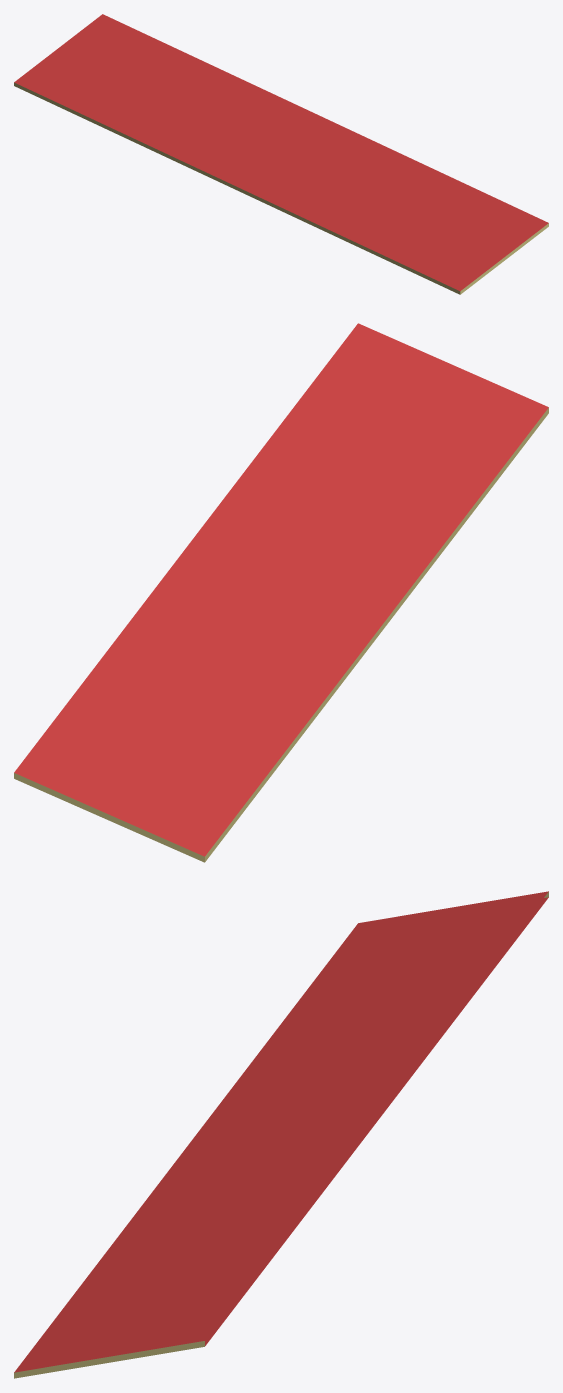
3 renders of one model, top to bottom at view 1: azimuth 30°, elevation 25°; view 2: azimuth 150°, elevation 25°; view 3: azimuth 330°, elevation 25°, orthographic. The views are drawn at different scales.
Size of the model in its own units: 6.5 by 17.17 by 1.07.
